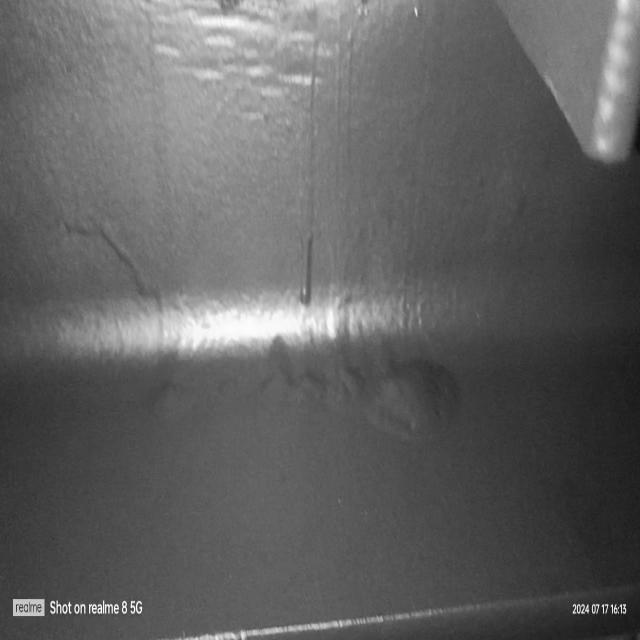paint drips: (56, 198, 176, 312), (289, 211, 326, 315)
